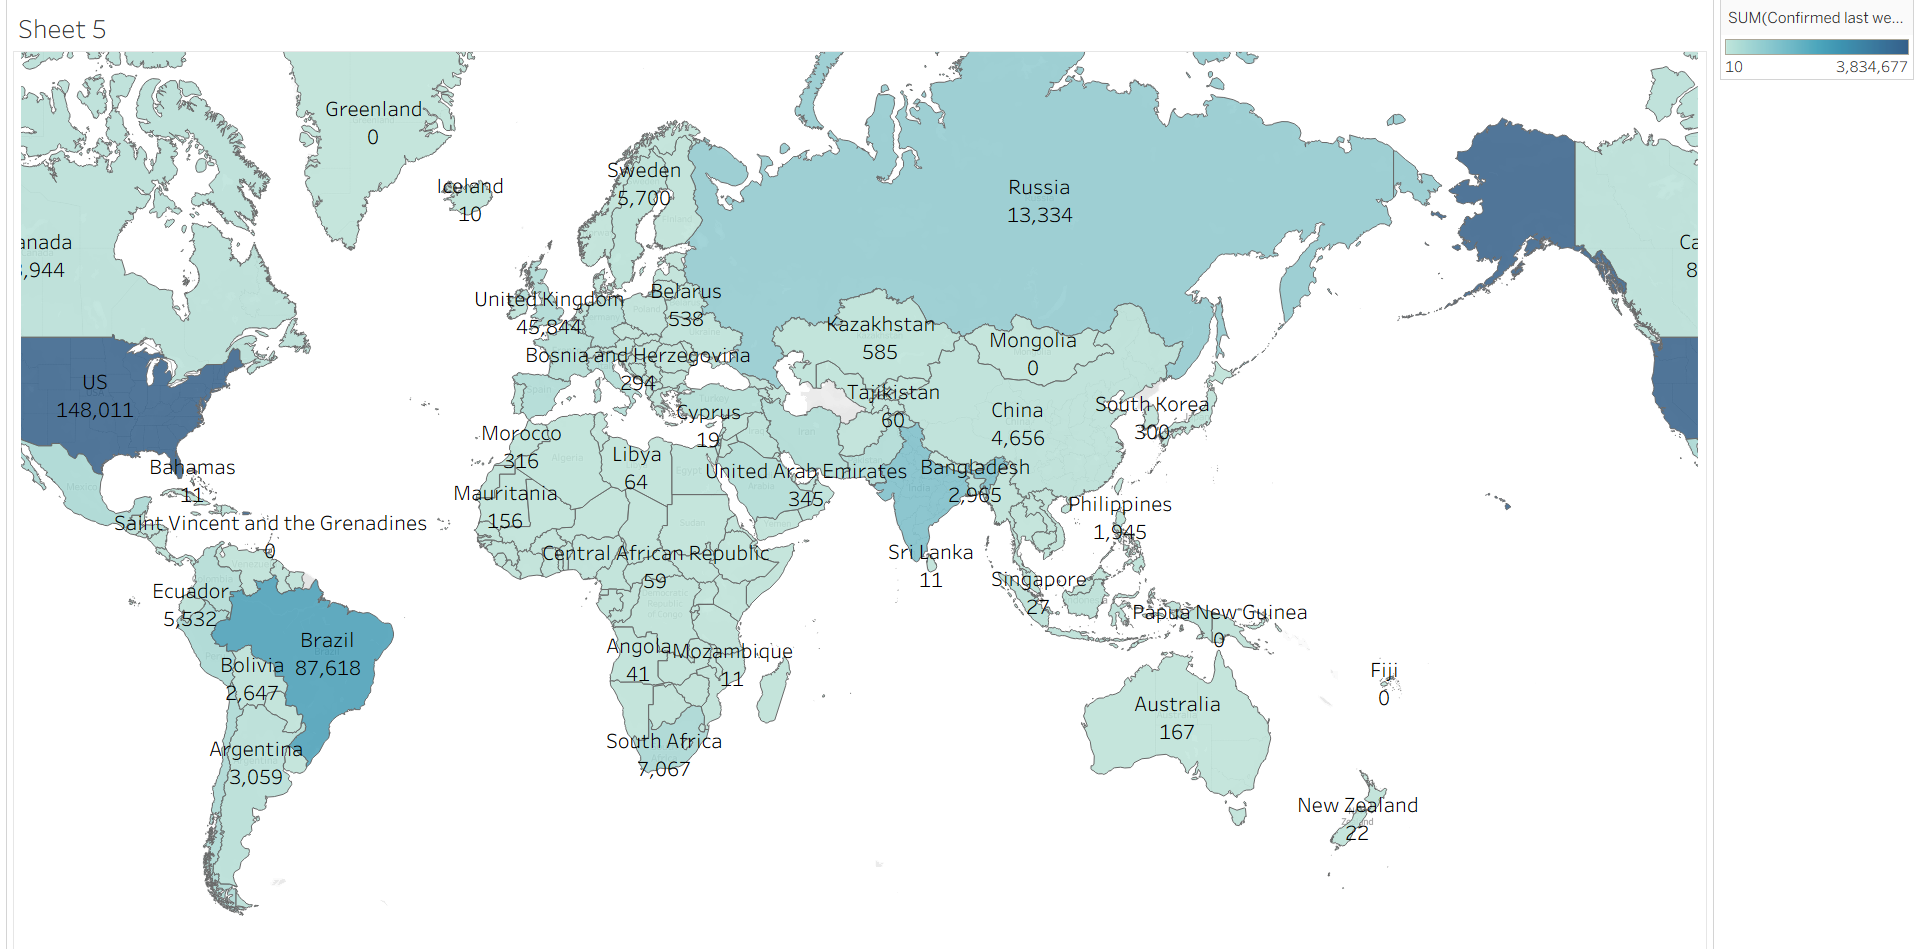

The dashboard page shown, as its layout file describes it:
{"tool":"powerbi","page":{"name":"Page 2","canvas":[1280,720],"ordinal":1},"visuals":[{"type":"map","fields":{"Category":["country_wise_latest.Country/Region"],"Size":["Sum(country_wise_latest.Confirmed)"]},"box":[0,0,1280.3,720.4],"z":0}]}

Visuals, with their boxes on the page's 1280x720 design canvas (x1, y1, x2, y2). These are canvas units, not pixel positions in the 1919x949 screenshot, which may show the page scaled, cropped or inside an application window:
map - country_wise_latest.Country/Region x Sum(country_wise_latest.Confirmed): Rect(0, 0, 1280, 720)
